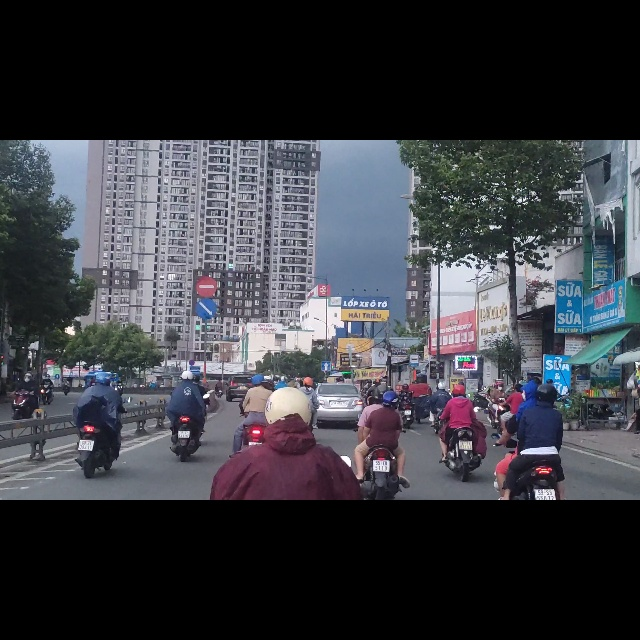bien_hieu_lenh: (195, 280, 220, 319), (195, 239, 218, 280), (409, 379, 419, 404), (322, 393, 331, 409)
